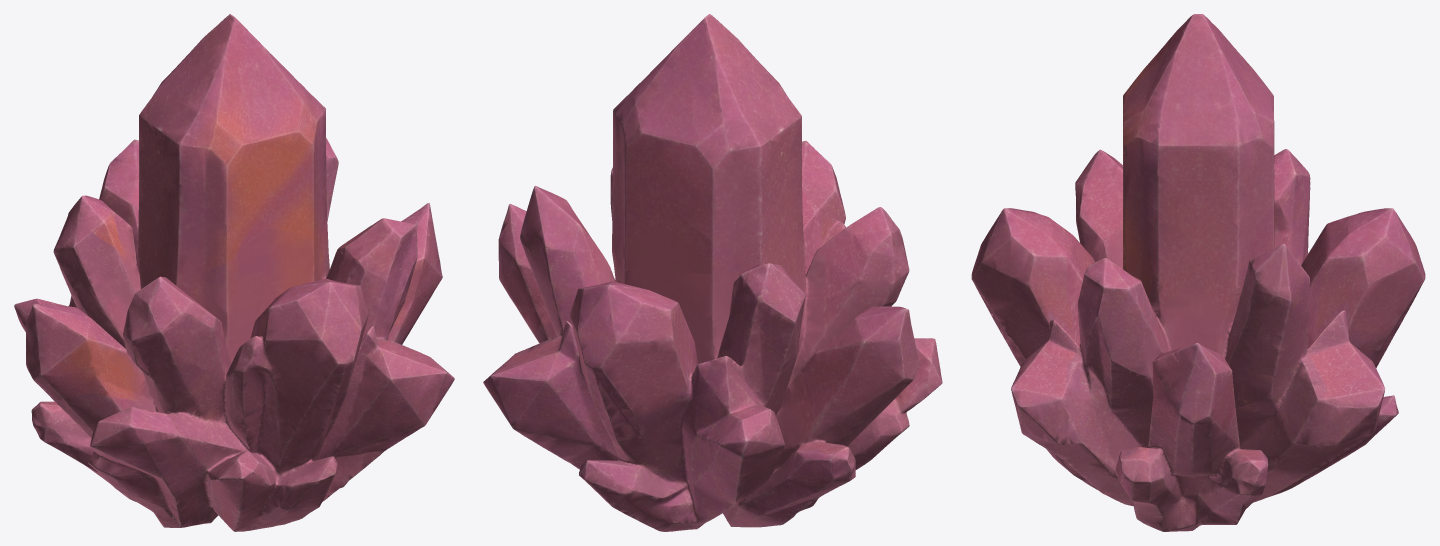
File: Meshy_AI_Sugar_Crystal.glb
3 renders of one model, left to right at view 1: azimuth 30°, elevation 25°; view 2: azimuth 150°, elevation 25°; view 3: azimuth 270°, elevation 25°, orthographic.
Parts seen in each view (by area): view 1: Mesh_0; view 2: Mesh_0; view 3: Mesh_0.
Boxes of the visible parts, <box> form: Mesh_0: <box>14,14,454,531</box>; Mesh_0: <box>483,14,942,531</box>; Mesh_0: <box>971,14,1425,531</box>.
Size of the model in its own units: 1.6 by 1.89 by 1.56.
Materials: 1 (1 with a texture image).
